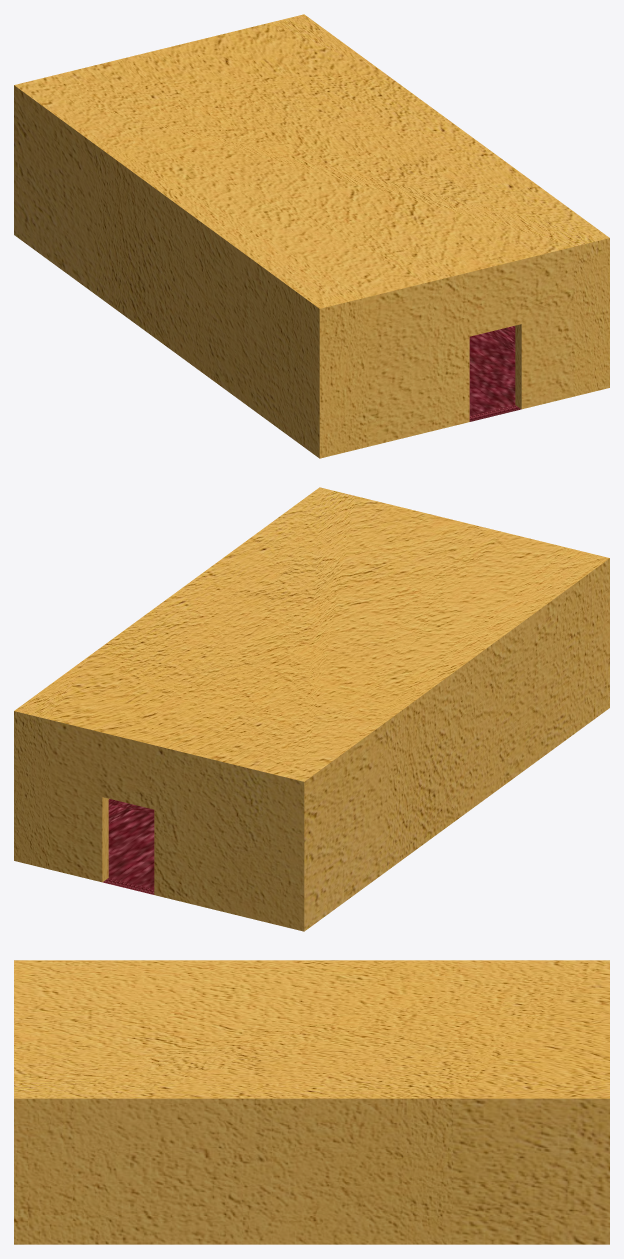
Rendered from ROOM2_3D.fbx.
3 views of the same model, one above another, from view 1: azimuth 30°, elevation 25°; view 2: azimuth 150°, elevation 25°; view 3: azimuth 270°, elevation 25° (orthographic). The views are drawn at different scales.
Parts seen in each view (by area): view 1: pPlane1; view 2: pPlane1; view 3: pPlane1.
Part boxes in pixels (x1,y1,x2,y2): pPlane1: [14, 14, 609, 458]; pPlane1: [14, 487, 609, 931]; pPlane1: [14, 960, 609, 1244].
Bounding box in the file's own units: 42.52 × 20.97 × 77.56.
3 materials, 2 textured.
